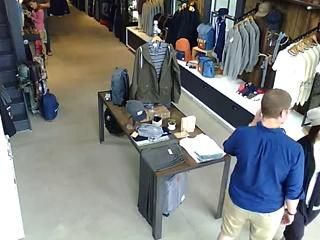Normal: (217, 88, 305, 240), (283, 107, 320, 240), (36, 0, 52, 56)
